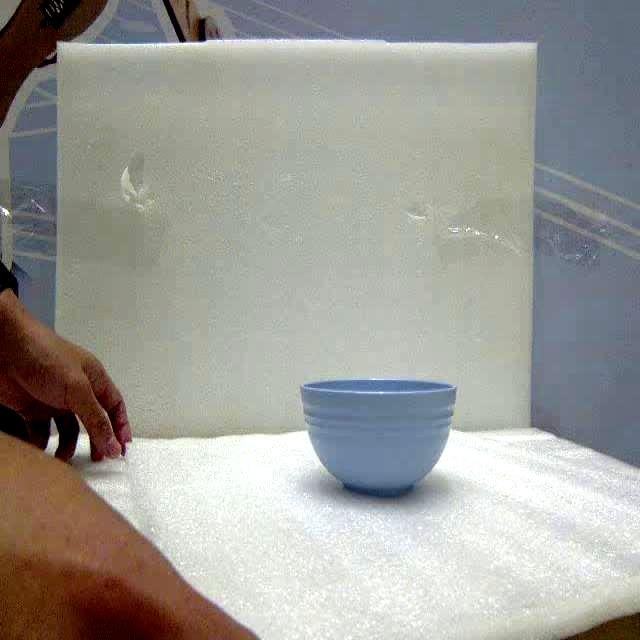Bowl: (301, 379, 455, 495)
